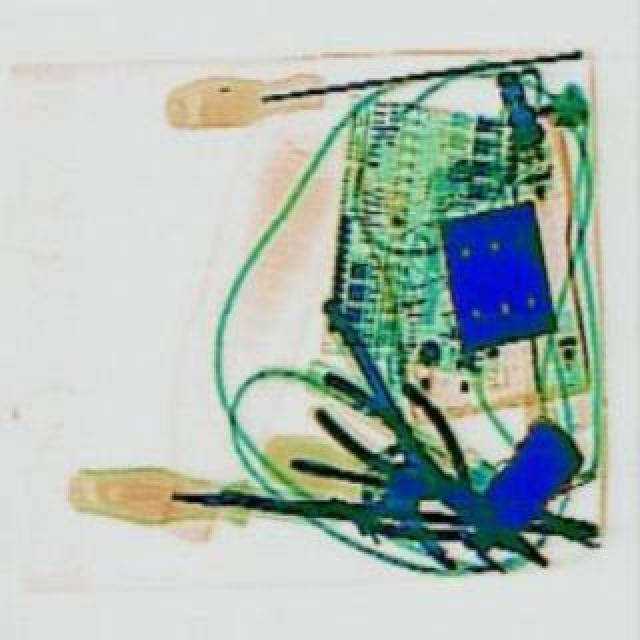wrench: (306, 348, 580, 592), (276, 454, 598, 558)
